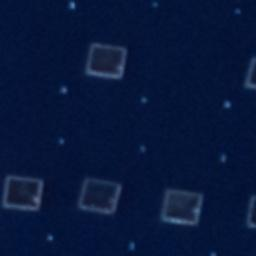square_cover: (81, 36, 131, 84), (74, 172, 122, 219), (157, 183, 206, 228), (2, 169, 46, 214)
